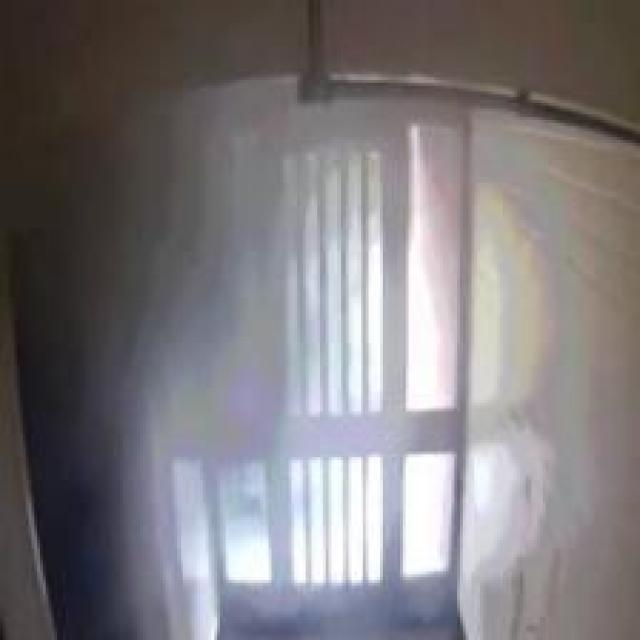fire: (80, 76, 286, 573)
